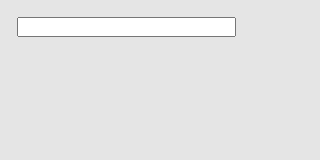
LocationInput › clear button empties the field and reports no place
Type "abc" into the dropdown named "Boarding stop" at (126, 27), box [16,17,236,37]
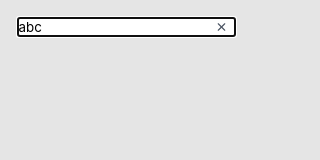
Click the button named "Clear Boarding stop" at (221, 26), box [210,16,232,37]
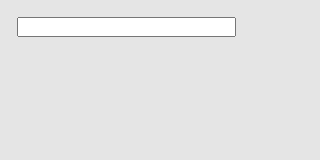
Result: the dropdown named "Boarding stop" is empty at [16,17,236,37]
